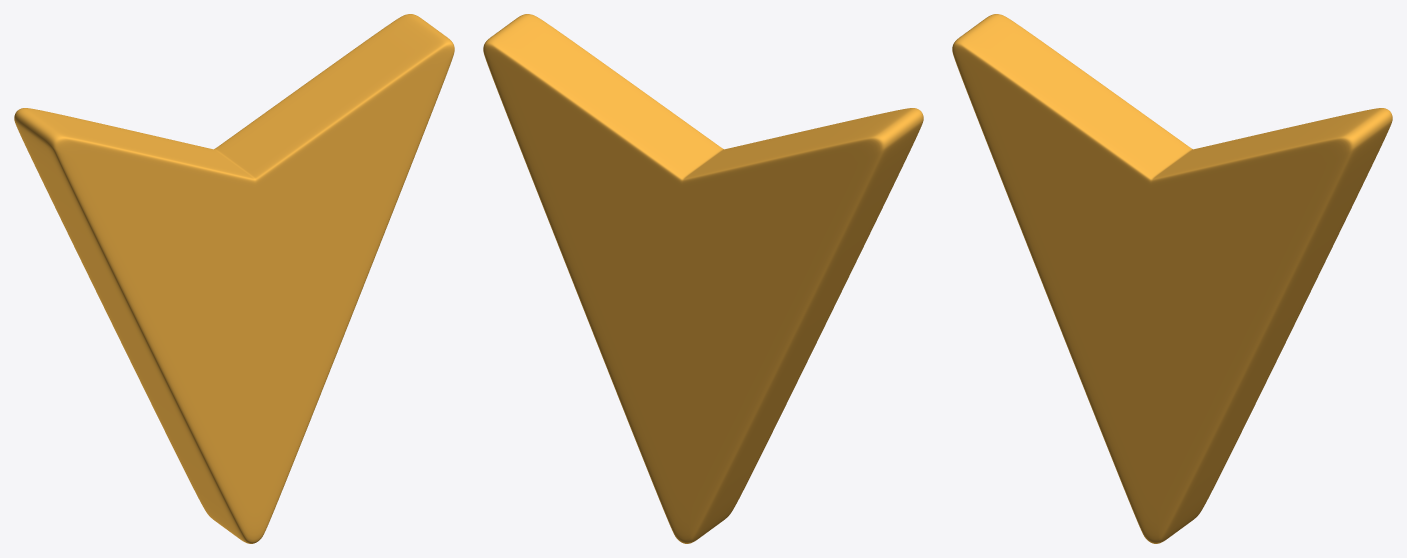
The model's file is location.obj.
The picture shows the model from 3 angles, left to right: view 1: azimuth 30°, elevation 25°; view 2: azimuth 150°, elevation 25°; view 3: azimuth 330°, elevation 25°; orthographic projection.
Parts seen in each view (by area): view 1: Circle.020; view 2: Circle.020; view 3: Circle.020.
Boxes of the visible parts, bbox=[...] form: Circle.020: bbox=[14, 14, 454, 543]; Circle.020: bbox=[483, 14, 923, 543]; Circle.020: bbox=[952, 14, 1392, 543].
Bounding box in the file's own units: 1.6 × 1.73 × 0.2916.
1 material, 1 textured.
